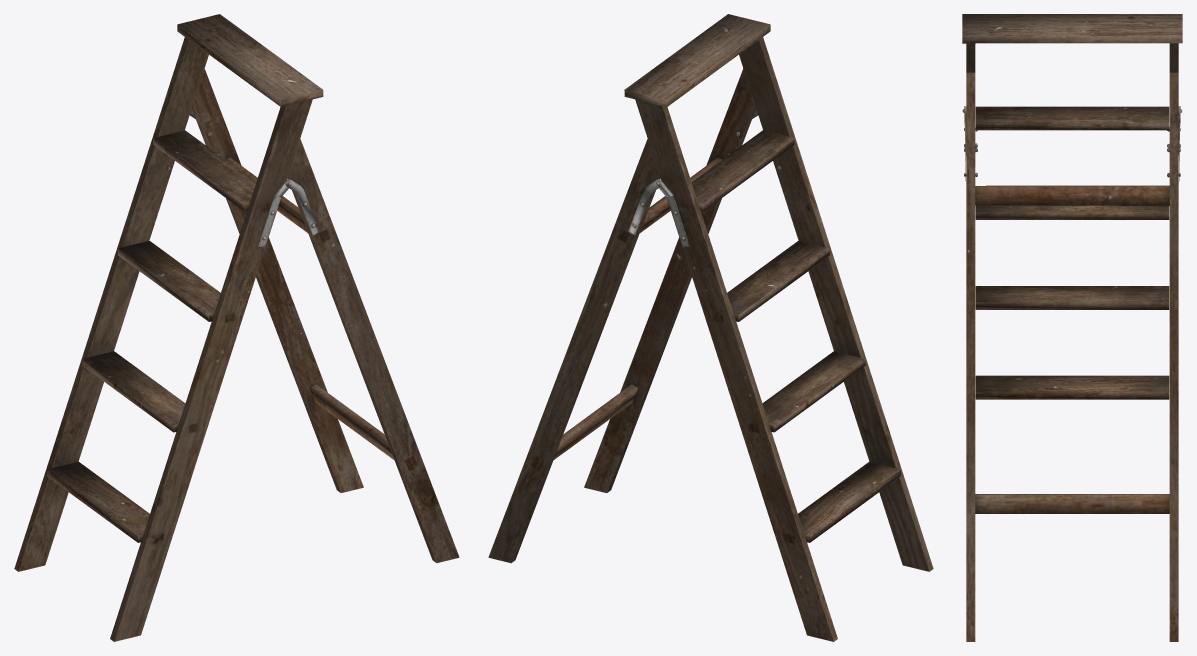
File: prop_ladder_01.glb
3 renders of one model, left to right at view 1: azimuth 30°, elevation 25°; view 2: azimuth 150°, elevation 25°; view 3: azimuth 270°, elevation 25°, orthographic. The views are drawn at different scales.
Parts seen in each view (by area): view 1: prop_ladder_01; view 2: prop_ladder_01; view 3: prop_ladder_01.
Boxes of the visible parts, box(x1,y1,x2,y2) form: prop_ladder_01: box(14, 14, 459, 641); prop_ladder_01: box(488, 14, 933, 641); prop_ladder_01: box(962, 14, 1182, 641).
Size of the model in its own units: 0.9592 by 1.33 by 0.4984.
1 material, 1 textured.
